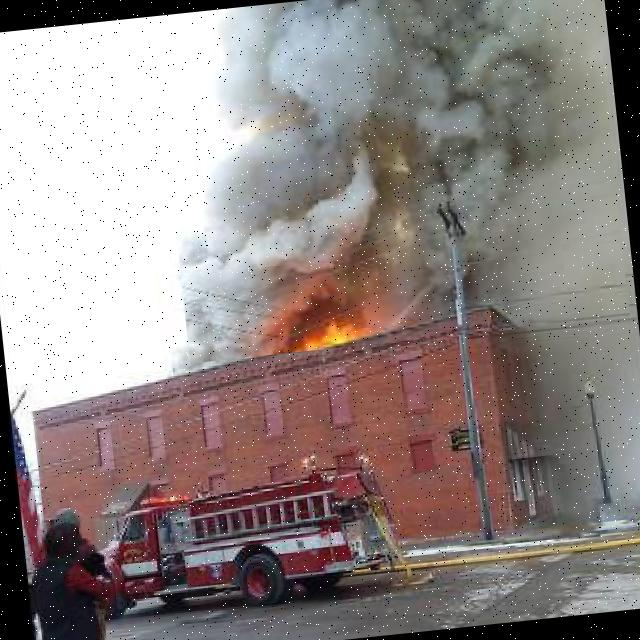fire: (153, 0, 629, 362)
